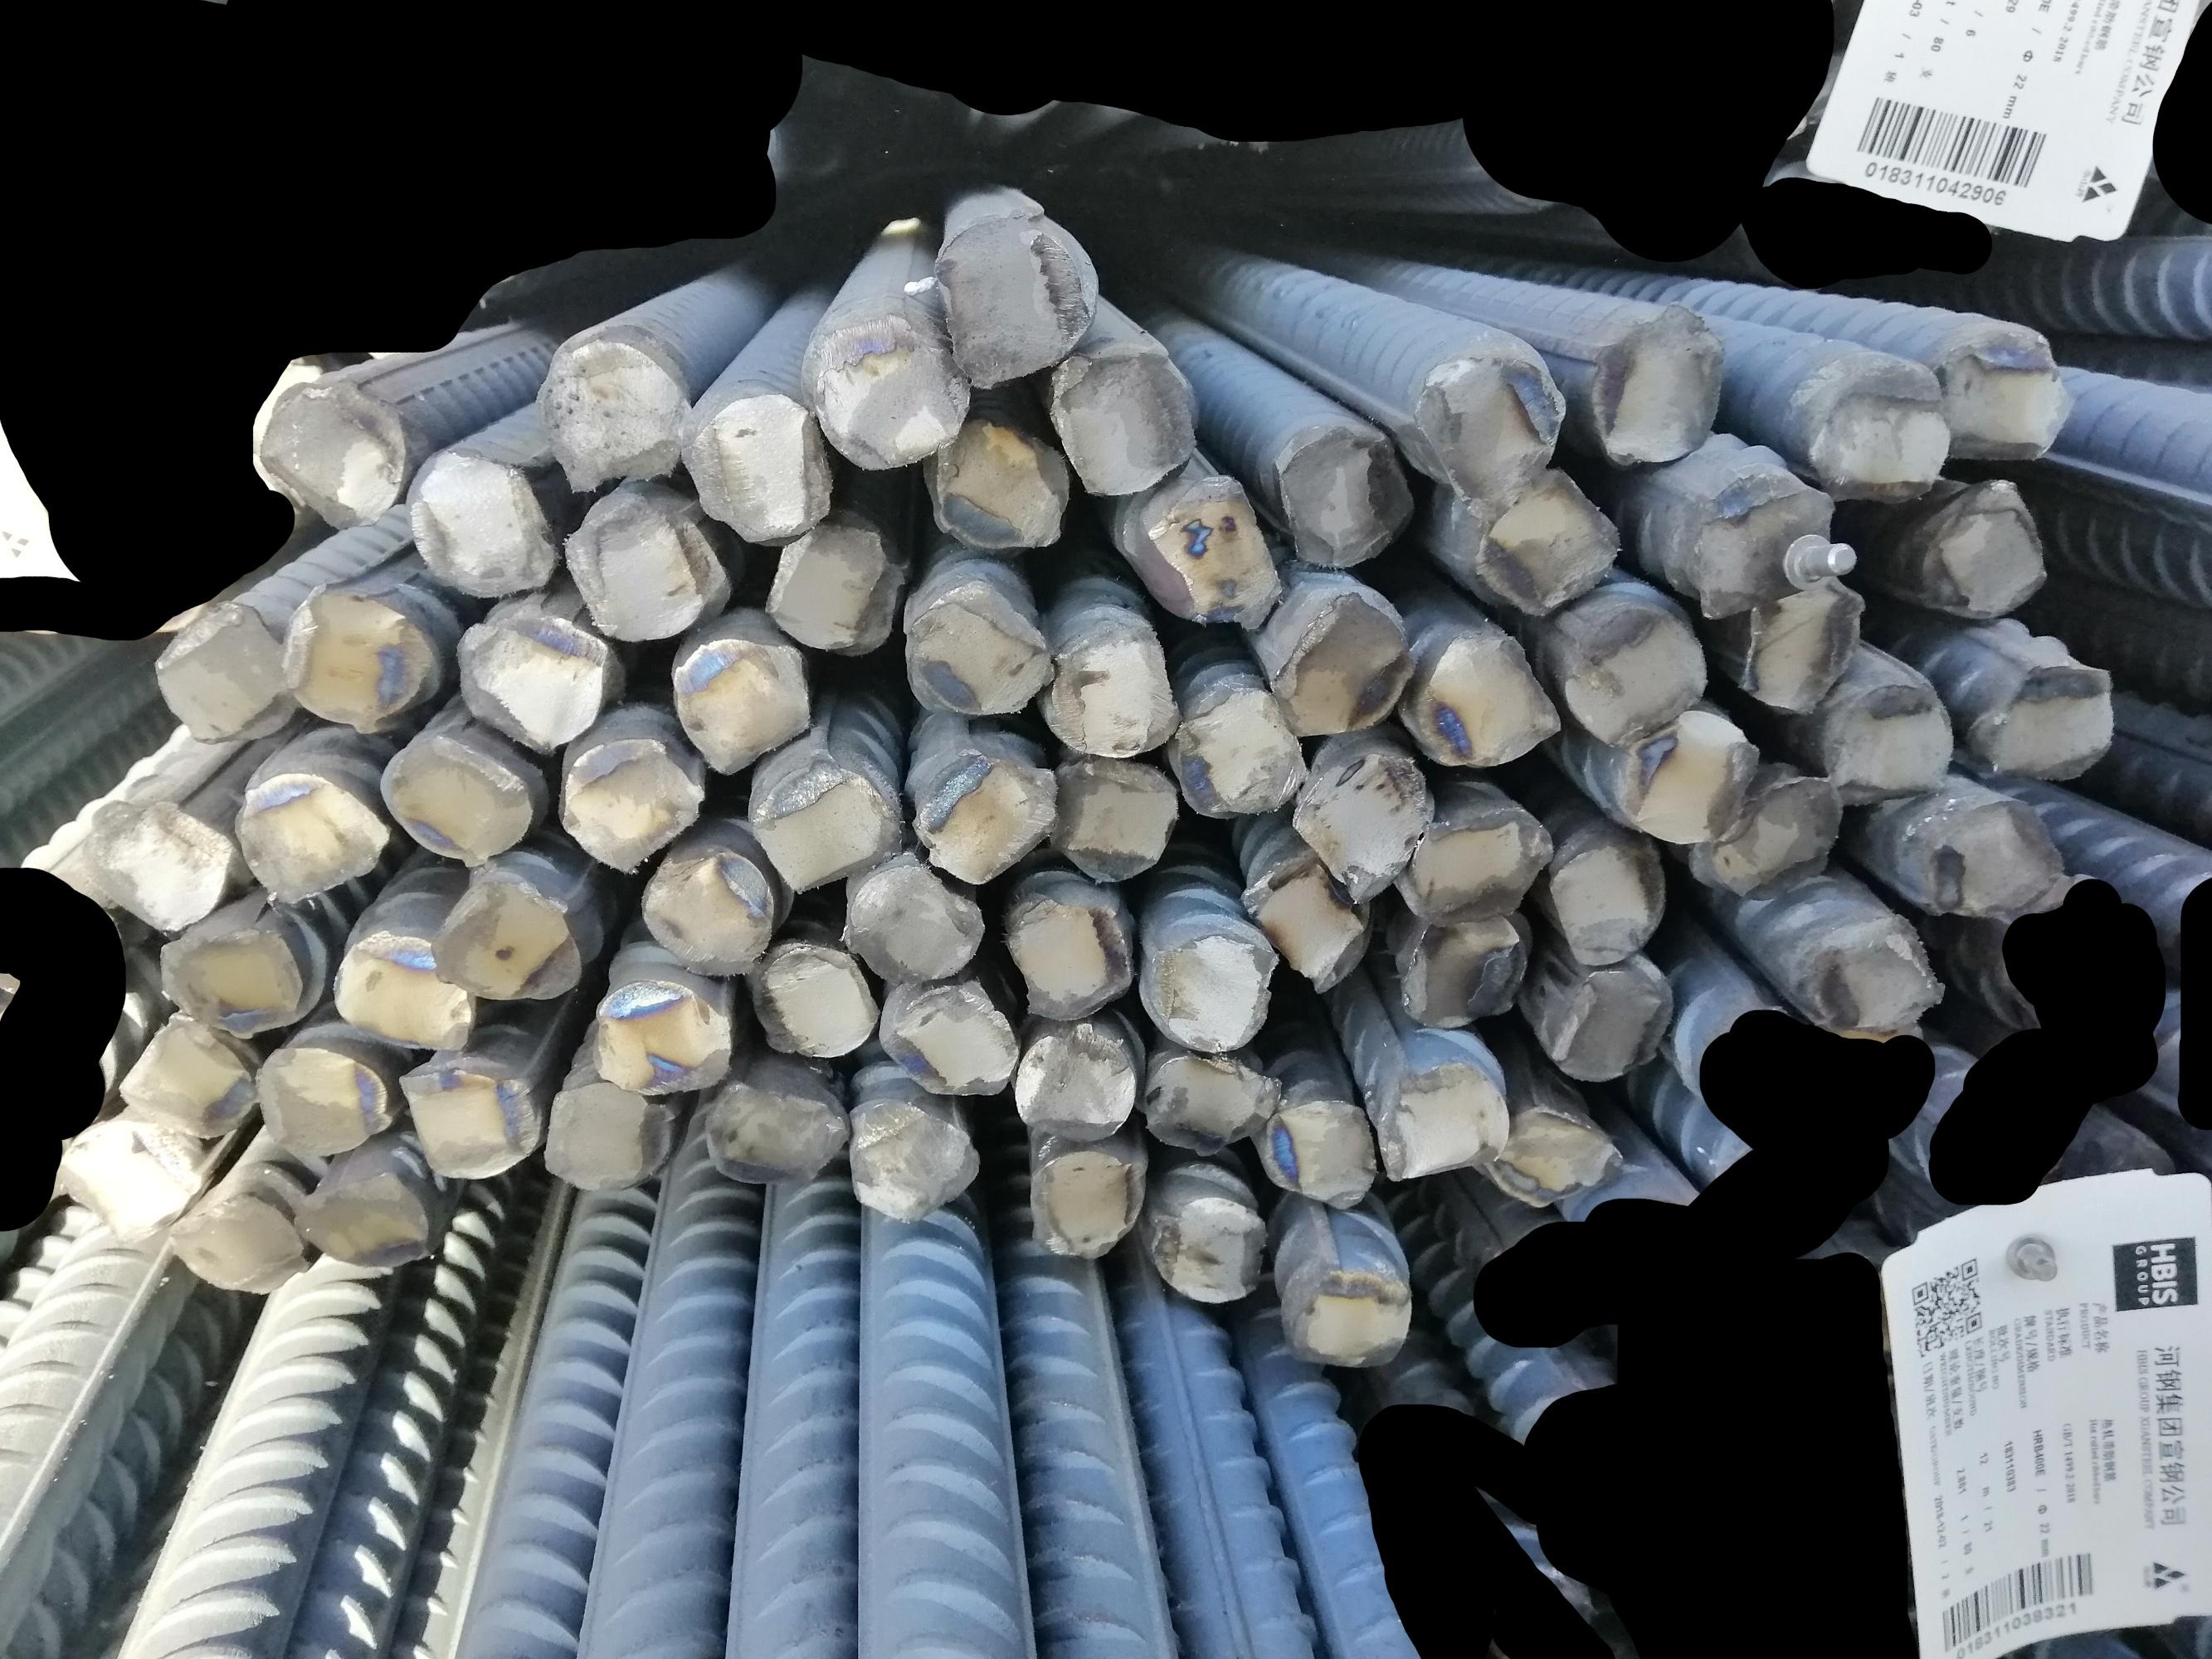bar: (933, 209, 1098, 394), (800, 303, 966, 477), (554, 469, 718, 643), (394, 439, 565, 603), (1044, 342, 1211, 505), (1408, 349, 1574, 504), (1684, 474, 1849, 626), (270, 580, 434, 730), (1581, 303, 1731, 465), (537, 329, 685, 490), (450, 603, 608, 751), (896, 573, 1055, 720), (680, 387, 826, 544), (267, 373, 410, 533), (1410, 622, 1558, 775), (662, 627, 811, 777), (1034, 746, 1187, 890), (232, 775, 392, 913), (1269, 587, 1410, 742), (1462, 472, 1618, 613), (1147, 471, 1283, 631), (1560, 605, 1710, 748), (427, 870, 587, 1002), (1276, 422, 1417, 572), (633, 845, 788, 981), (1924, 319, 2066, 467), (1806, 359, 1956, 498), (1164, 681, 1314, 819), (1293, 744, 1424, 899), (155, 601, 296, 744), (1898, 793, 2059, 918), (82, 800, 232, 934), (380, 734, 532, 864), (927, 415, 1069, 554), (1138, 920, 1281, 1054), (751, 765, 899, 892), (1794, 913, 1945, 1037), (1004, 887, 1143, 1021), (1980, 648, 2118, 782), (1537, 955, 1675, 1089), (58, 1117, 204, 1243), (708, 1066, 849, 1195), (912, 758, 1055, 885), (553, 748, 701, 870), (1046, 620, 1180, 755), (767, 519, 899, 655), (840, 857, 981, 985), (1931, 481, 2057, 620), (845, 1091, 981, 1218), (392, 1063, 539, 1180), (1626, 709, 1755, 842), (1381, 1060, 1513, 1187), (246, 1037, 387, 1155), (1246, 857, 1370, 992), (1013, 1021, 1140, 1150), (1741, 579, 1865, 711), (596, 979, 736, 1096), (333, 938, 474, 1053), (1412, 810, 1555, 924), (1396, 903, 1525, 1028), (1825, 678, 1951, 805), (1713, 777, 1842, 899), (885, 983, 1016, 1103), (1487, 1096, 1625, 1209), (288, 1171, 439, 1272), (542, 1079, 676, 1192), (1020, 1138, 1142, 1262), (160, 1194, 307, 1297), (1546, 835, 1659, 967), (1143, 1049, 1281, 1155), (157, 927, 303, 1025), (757, 945, 879, 1061), (129, 1025, 253, 1140), (1293, 1256, 1414, 1371), (1262, 1093, 1375, 1215), (1154, 1192, 1269, 1307)
